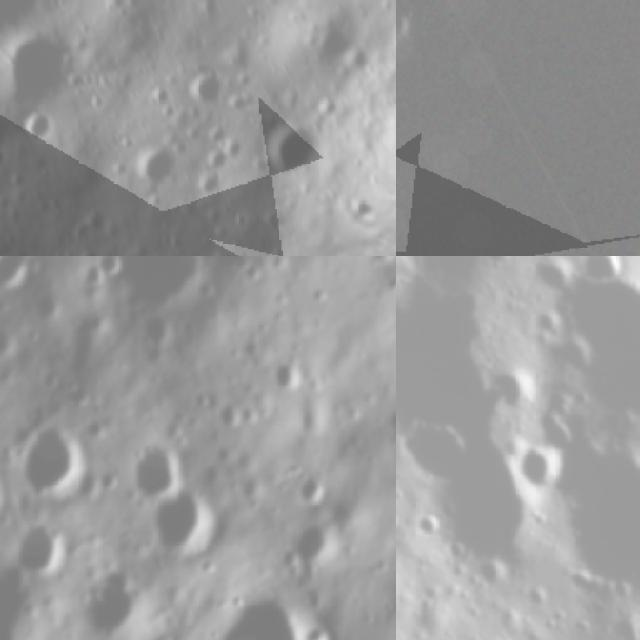crater: (539, 413, 640, 593), (532, 262, 640, 426), (402, 426, 523, 571), (0, 10, 90, 133), (138, 477, 233, 559), (246, 103, 334, 191), (14, 415, 97, 508), (74, 567, 165, 640), (208, 585, 325, 640), (294, 2, 371, 79), (118, 428, 193, 506), (113, 256, 212, 313), (120, 131, 186, 197), (12, 515, 72, 582), (5, 97, 66, 157), (173, 58, 230, 114), (0, 0, 48, 60), (294, 516, 340, 572), (517, 450, 560, 499), (293, 466, 329, 514), (0, 256, 34, 295), (577, 256, 628, 281), (275, 358, 307, 396), (218, 392, 248, 431), (74, 260, 106, 294), (173, 0, 232, 16), (94, 256, 128, 277), (365, 256, 396, 274)
